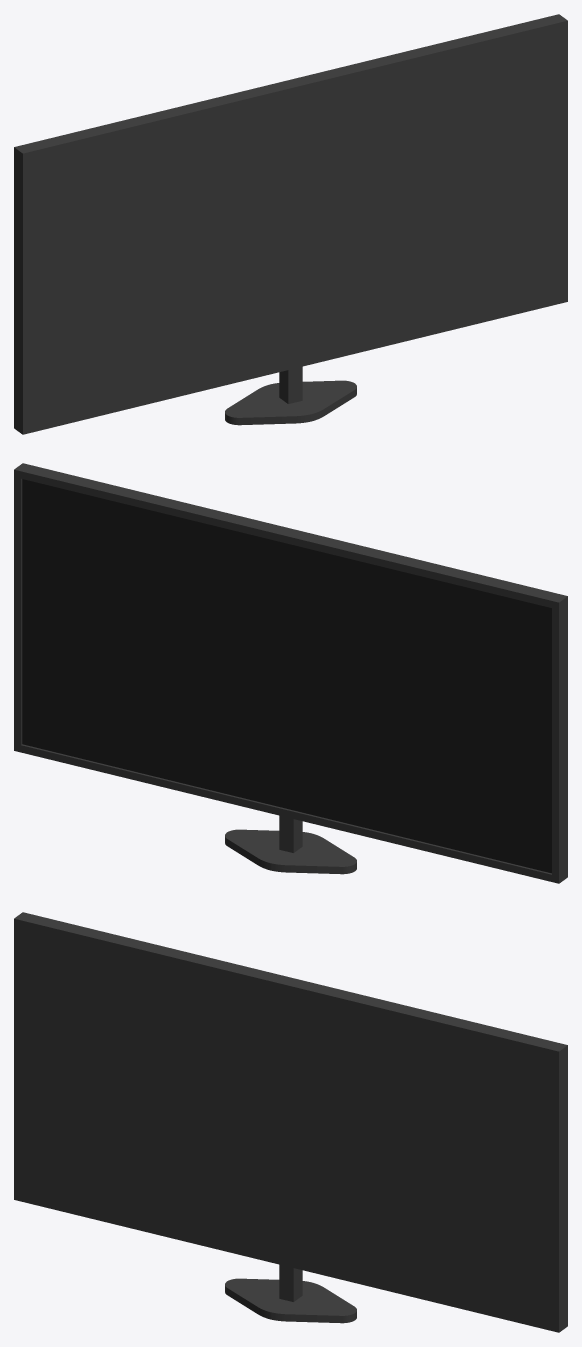
The model's file is screen.fbx.
3 views of the same model, one above another, from view 1: azimuth 30°, elevation 25°; view 2: azimuth 150°, elevation 25°; view 3: azimuth 330°, elevation 25° (orthographic).
Visible parts, largest first — view 1: screen; view 2: screen; view 3: screen.
Boxes of the visible parts, bbox=[...] form: screen: bbox=[14, 14, 567, 434]; screen: bbox=[14, 463, 567, 883]; screen: bbox=[14, 912, 567, 1332].
Bounding box in the file's own units: 406 × 229 × 52.7.
